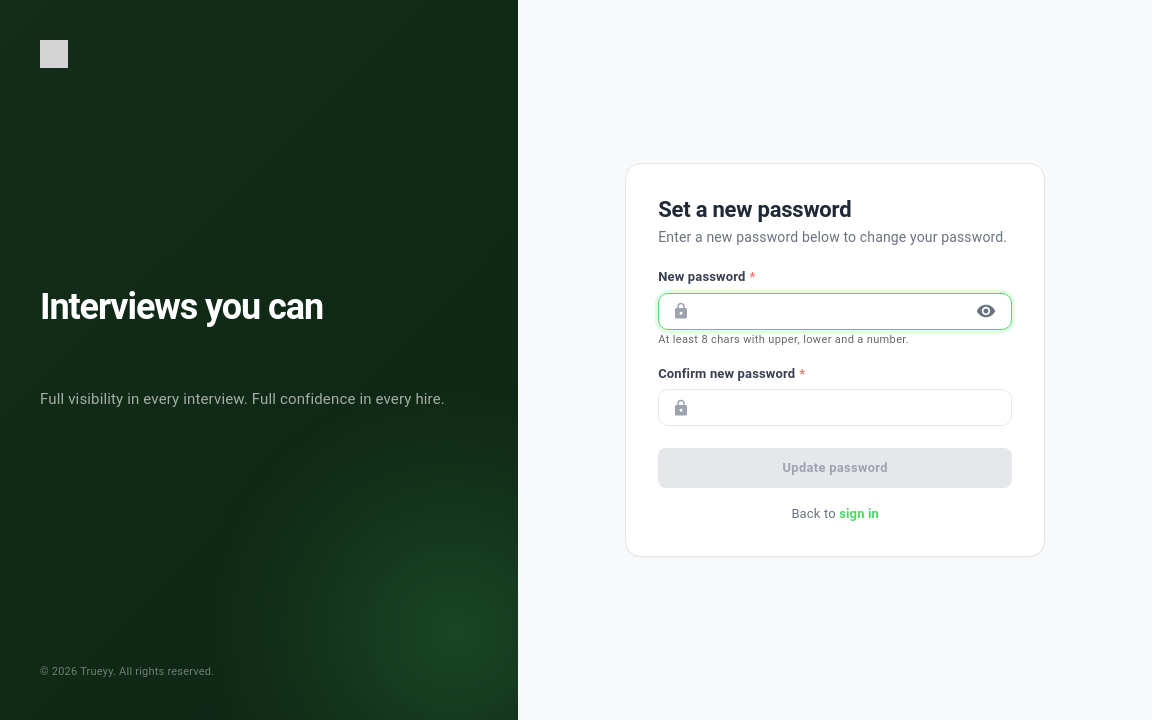
it: ResetPassword › weak password surfaces the validation message
Type "short" into the password field labelled "New password *" at coordinates (831, 311), box [698,293,963,330]
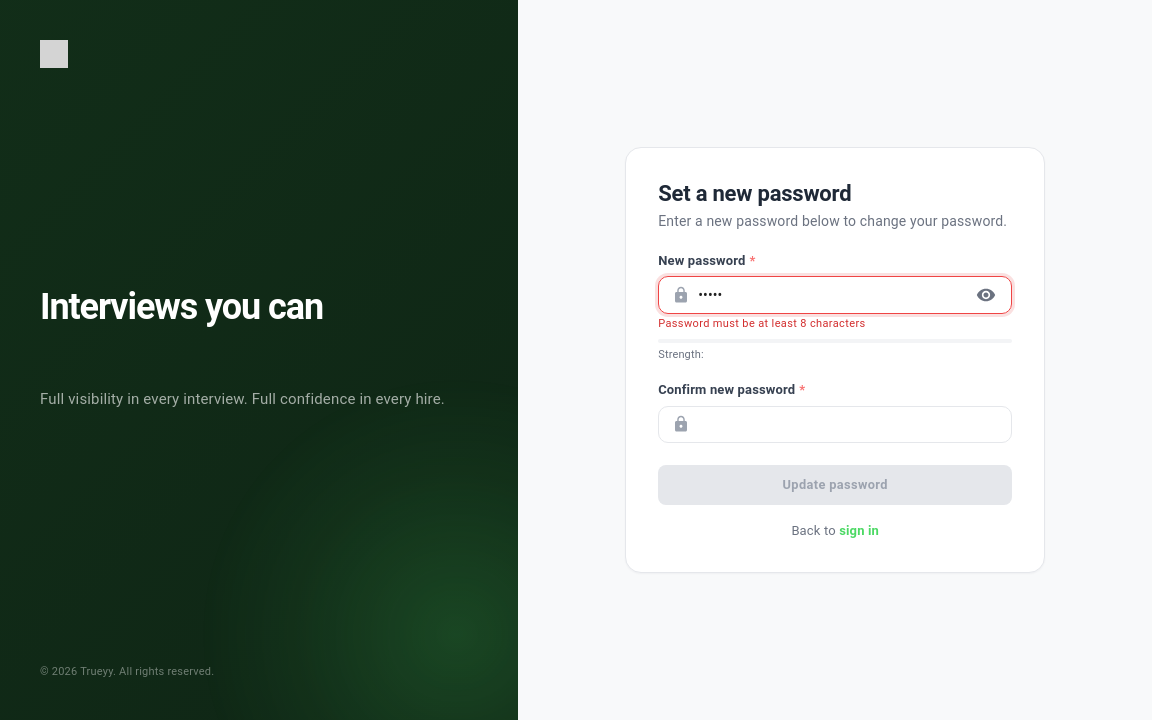
Now the text "Password must be at least 8 characters" is shown, box [658,317,866,330]
